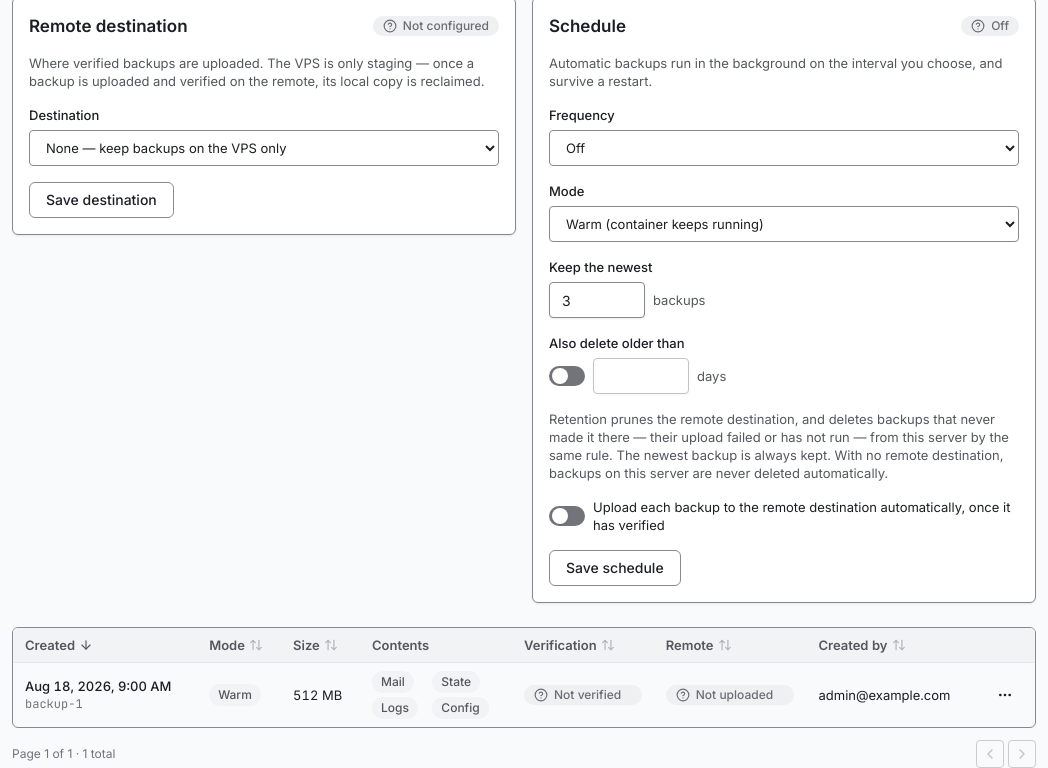
Test: BackupsPage — destructive actions live behind a menu (§8) › offers no row-level delete control until the actions menu is opened
(page scrolled)
Expected: the text "backup-1" is shown, [25,696,83,712]
Click the button named "Actions for backup backup-1": (1005, 695) [987,677,1023,713]
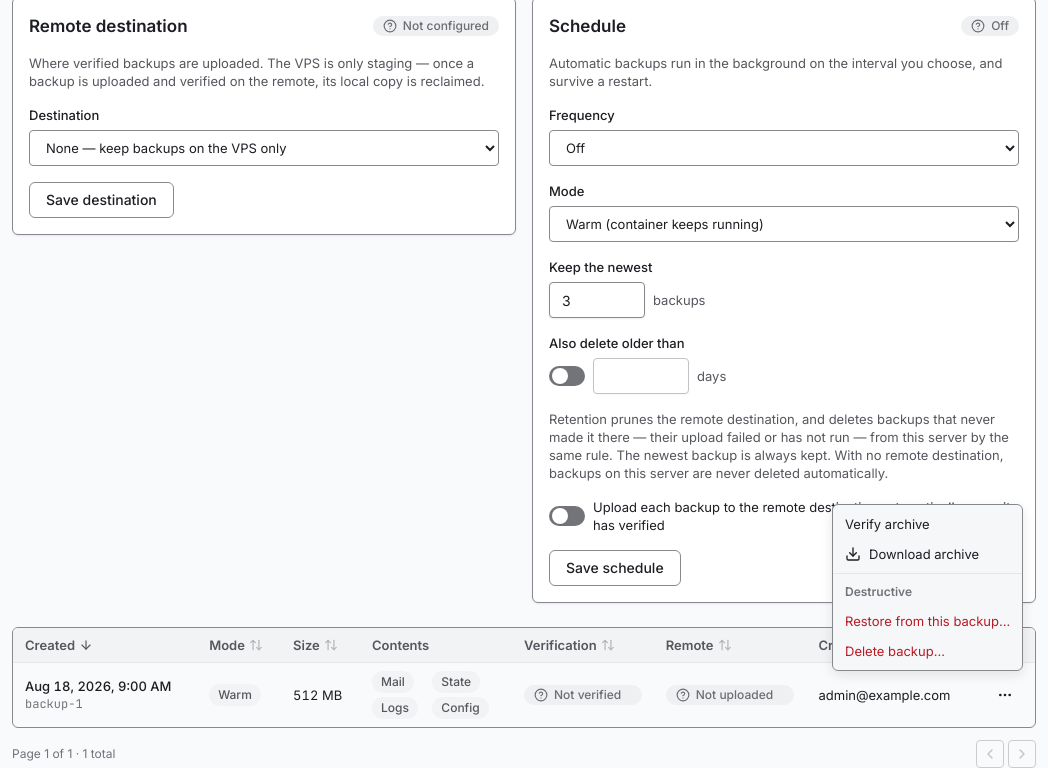
Now the menu item "Delete backup…" is shown, box [845,643,945,659]
